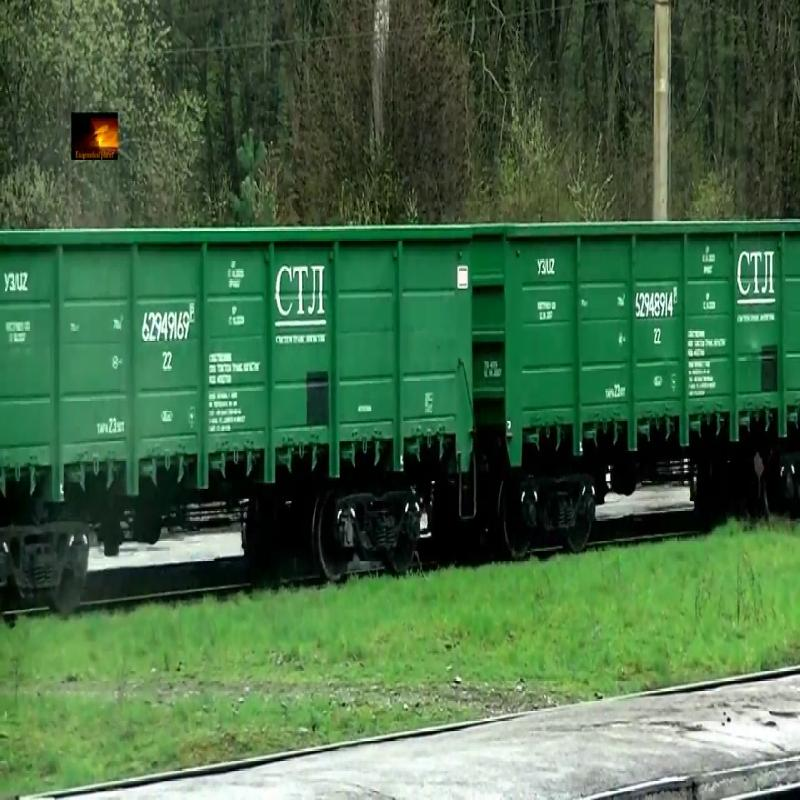train: (1, 219, 472, 515), (472, 211, 797, 489)
